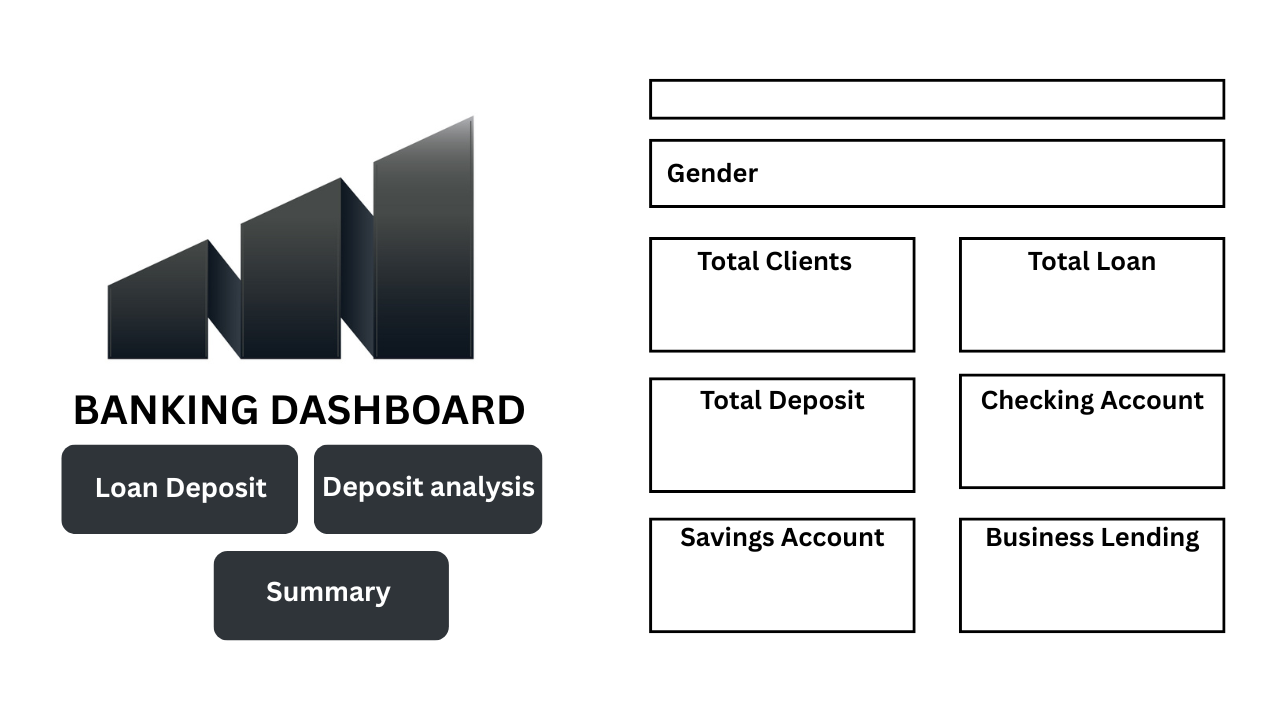

This screenshot's page, from the dashboard's own definition file:
{"tool":"powerbi","page":{"name":"Home2","canvas":[1280,720],"ordinal":1},"visuals":[{"type":"card","fields":{"Values":["CountNonNull(4545c34b-6225-4efc-b2f4-cad1aec.Name)"]},"box":[641.5,324.4,247.3,75.6],"z":0},{"type":"slicer","fields":{"Values":["4545c34b-6225-4efc-b2f4-cad1aec.GenderId"]},"box":[750.5,196.4,446.5,68.4],"z":1000},{"type":"card","fields":{"Values":["Sum(4545c34b-6225-4efc-b2f4-cad1aec.Bank Loans)"]},"box":[971.6,327.9,231.3,80],"z":2000},{"type":"card","fields":{"Values":["Sum(4545c34b-6225-4efc-b2f4-cad1aec.Bank Deposits)"]},"box":[669.1,467.6,216.7,82.9],"z":3000},{"type":"card","fields":{"Values":["Sum(4545c34b-6225-4efc-b2f4-cad1aec.Checking Accounts)"]},"box":[968.7,462.5,228.4,82.9],"z":4000},{"type":"card","fields":{"Values":["Sum(4545c34b-6225-4efc-b2f4-cad1aec.Business Lending)"]},"box":[978.9,590.5,205.1,100.4],"z":5000},{"type":"card","fields":{"Values":["Sum(4545c34b-6225-4efc-b2f4-cad1aec.Saving Accounts)"]},"box":[664.7,602.2,218.2,82.9],"z":6000},{"type":"slicer","fields":{"Values":["4545c34b-6225-4efc-b2f4-cad1aec.Year of Joining"]},"box":[641.5,133.8,570.2,36.4],"z":7000},{"type":"actionButton","box":[181.8,386.9,260.4,80],"z":8000},{"type":"actionButton","box":[181.4,488.3,259.8,78.5],"z":9000},{"type":"actionButton","box":[181.8,590.5,260.4,81.5],"z":10000}]}

Visuals, with their boxes in screenshot pixels (x1, y1, x2, y2), scaled from the page's 1280x720 canvas onto the 1280x720 screenshot:
card - CountNonNull(4545c34b-6225-4efc-b2f4-cad1aec.Name): [642,324,889,400]
slicer - 4545c34b-6225-4efc-b2f4-cad1aec.GenderId: [750,196,1197,265]
card - Sum(4545c34b-6225-4efc-b2f4-cad1aec.Bank Loans): [972,328,1203,408]
card - Sum(4545c34b-6225-4efc-b2f4-cad1aec.Bank Deposits): [669,468,886,550]
card - Sum(4545c34b-6225-4efc-b2f4-cad1aec.Checking Accounts): [969,462,1197,545]
card - Sum(4545c34b-6225-4efc-b2f4-cad1aec.Business Lending): [979,590,1184,691]
card - Sum(4545c34b-6225-4efc-b2f4-cad1aec.Saving Accounts): [665,602,883,685]
slicer - 4545c34b-6225-4efc-b2f4-cad1aec.Year of Joining: [642,134,1212,170]
actionButton: [182,387,442,467]
actionButton: [181,488,441,567]
actionButton: [182,590,442,672]
